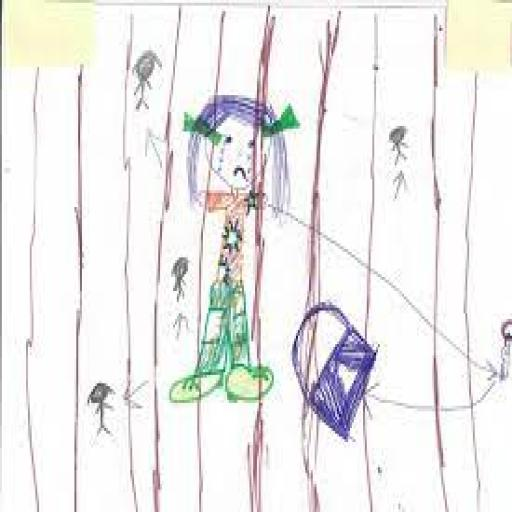person: (163, 87, 303, 415), (83, 374, 119, 457), (131, 42, 163, 130), (491, 299, 512, 397), (390, 119, 412, 172)
